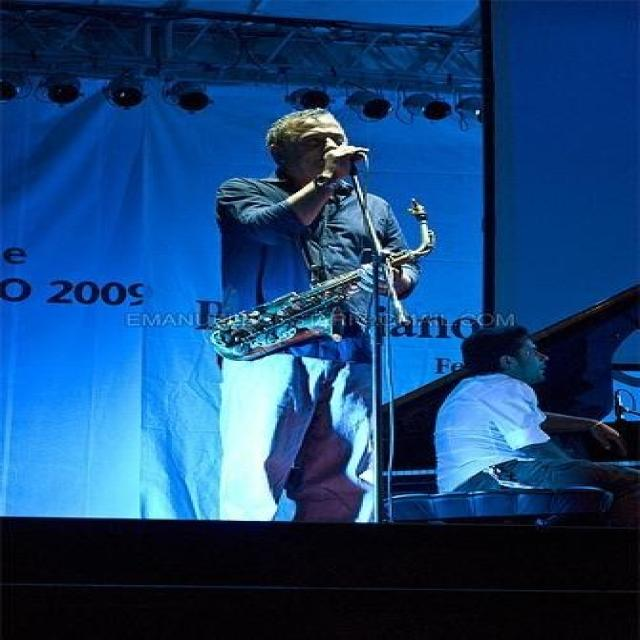saxophone: (205, 198, 442, 364)
